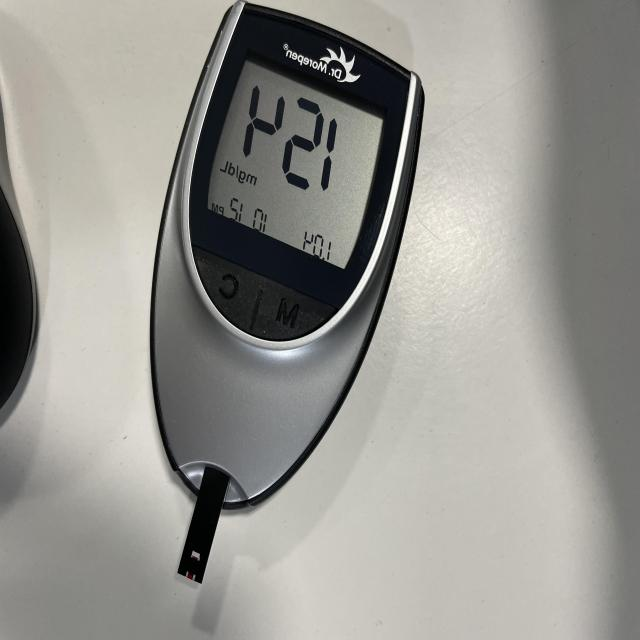gluco: (148, 1, 425, 581)
